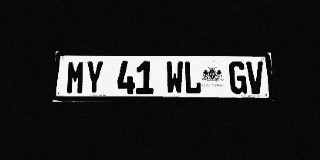1: (136, 61, 153, 94)
4: (117, 61, 135, 94)
G: (229, 61, 247, 94)
L: (184, 61, 202, 94)
M: (66, 61, 85, 94)
V: (246, 61, 265, 94)
W: (166, 61, 184, 94)
Y: (85, 61, 104, 94)
